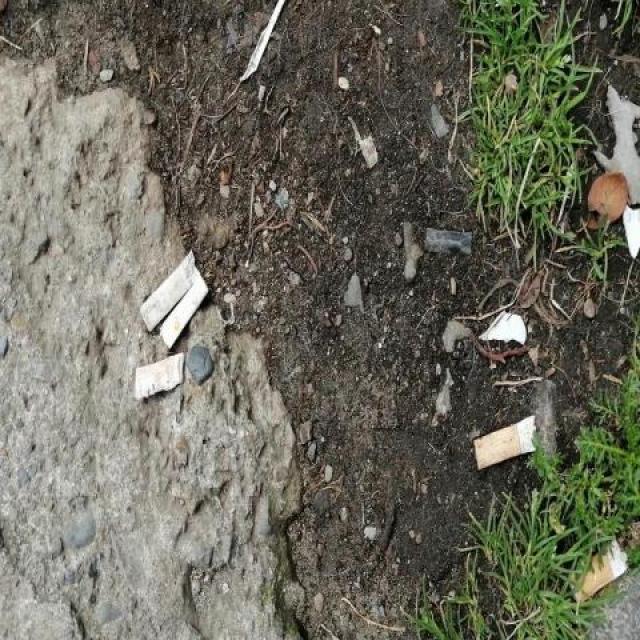non-organic waste: (136, 244, 217, 337), (154, 270, 222, 354), (462, 409, 547, 472), (569, 530, 635, 607), (127, 352, 190, 400)
